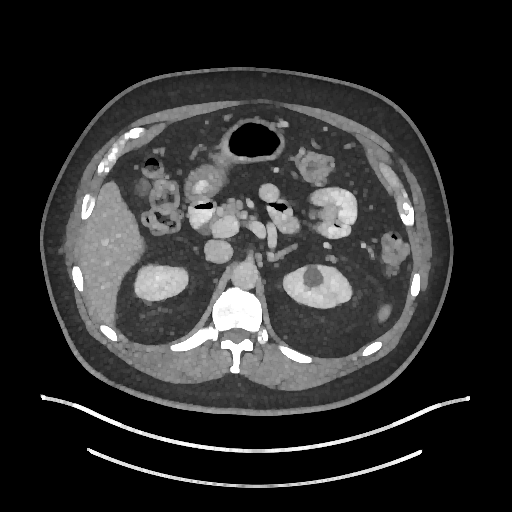Lesion: (299, 263, 327, 290)
